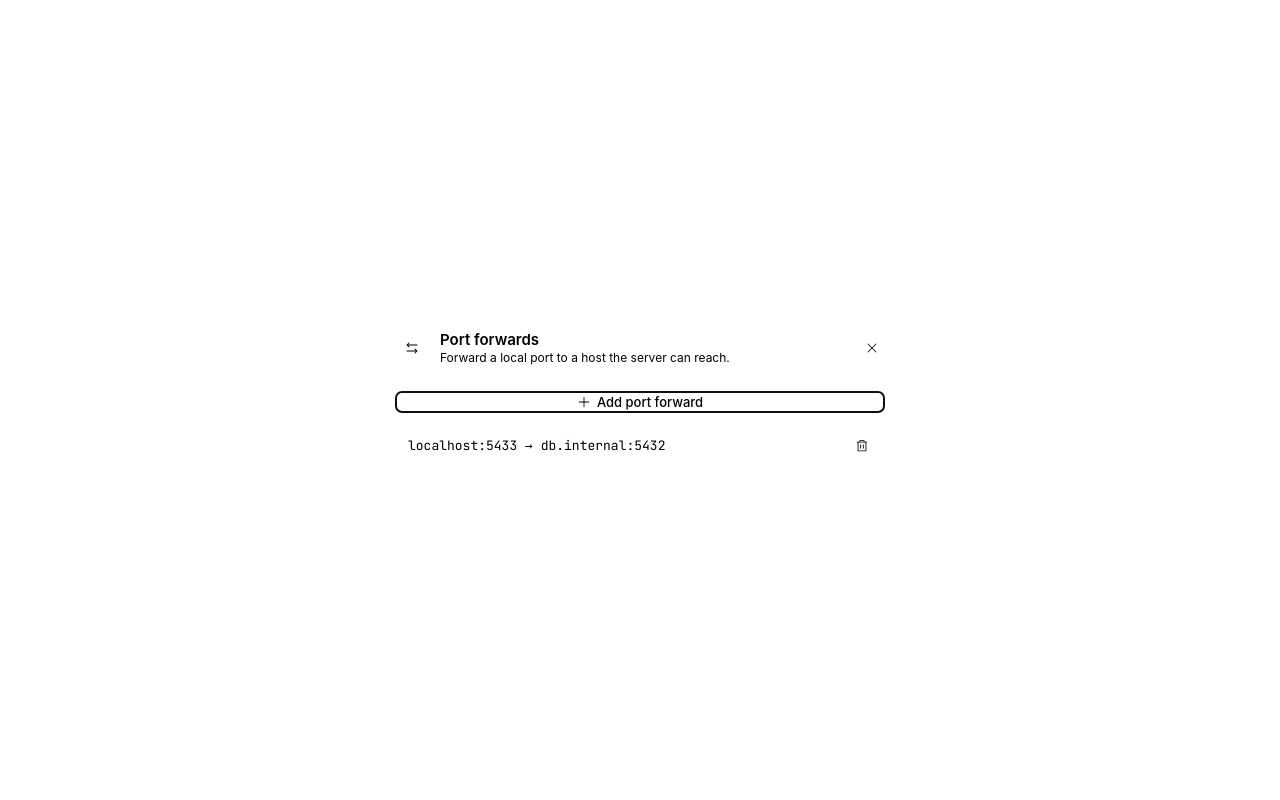
QuickPortForwardDialog › previews local:port → remote:port as you type in the add form
The image size is (1280, 800).
Step 1. Click the button "Add port forward" → (640, 402), box [396,392,884,412]
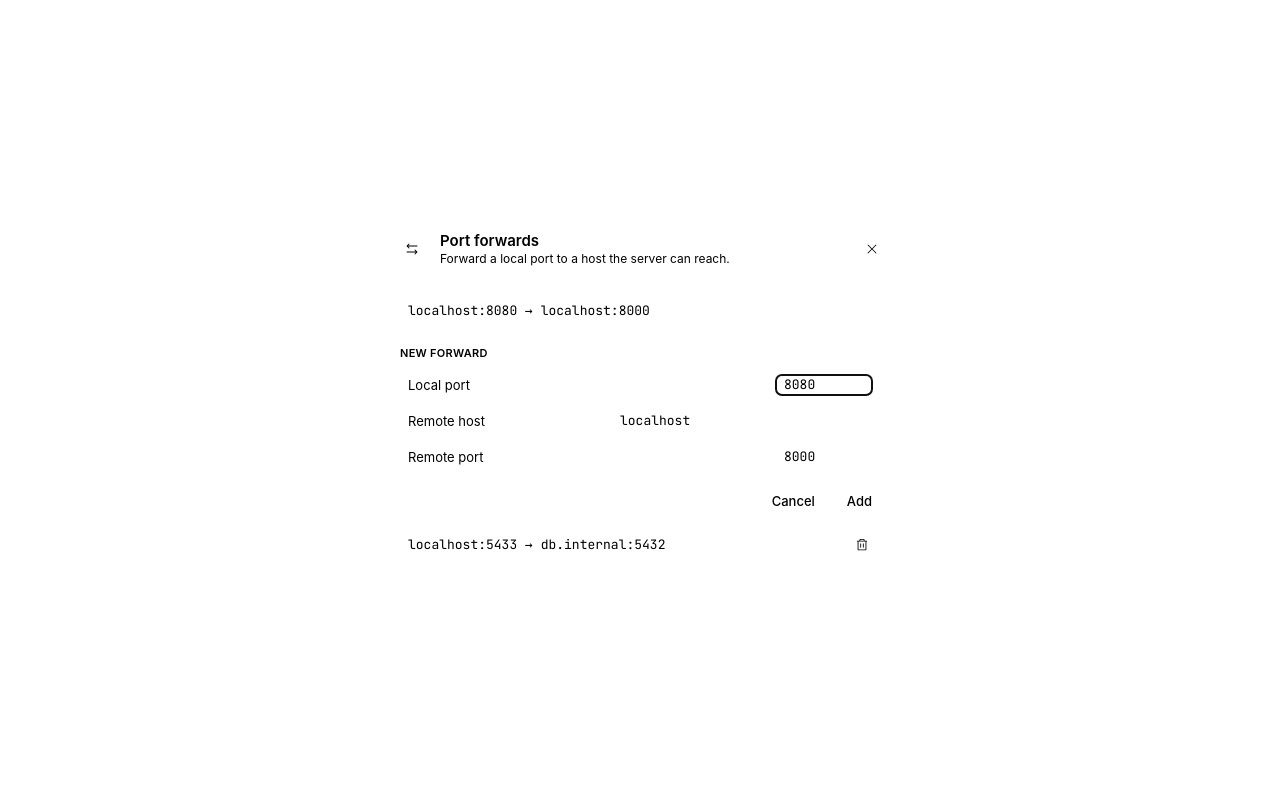
Expected: the element named "Forward preview" reads "localhost:8080 → localhost:8000", [408,302,650,319]
Step 2. Replace the text in the field labelled "Remote host" with "db.internal" → (742, 421), box [612,411,872,431]
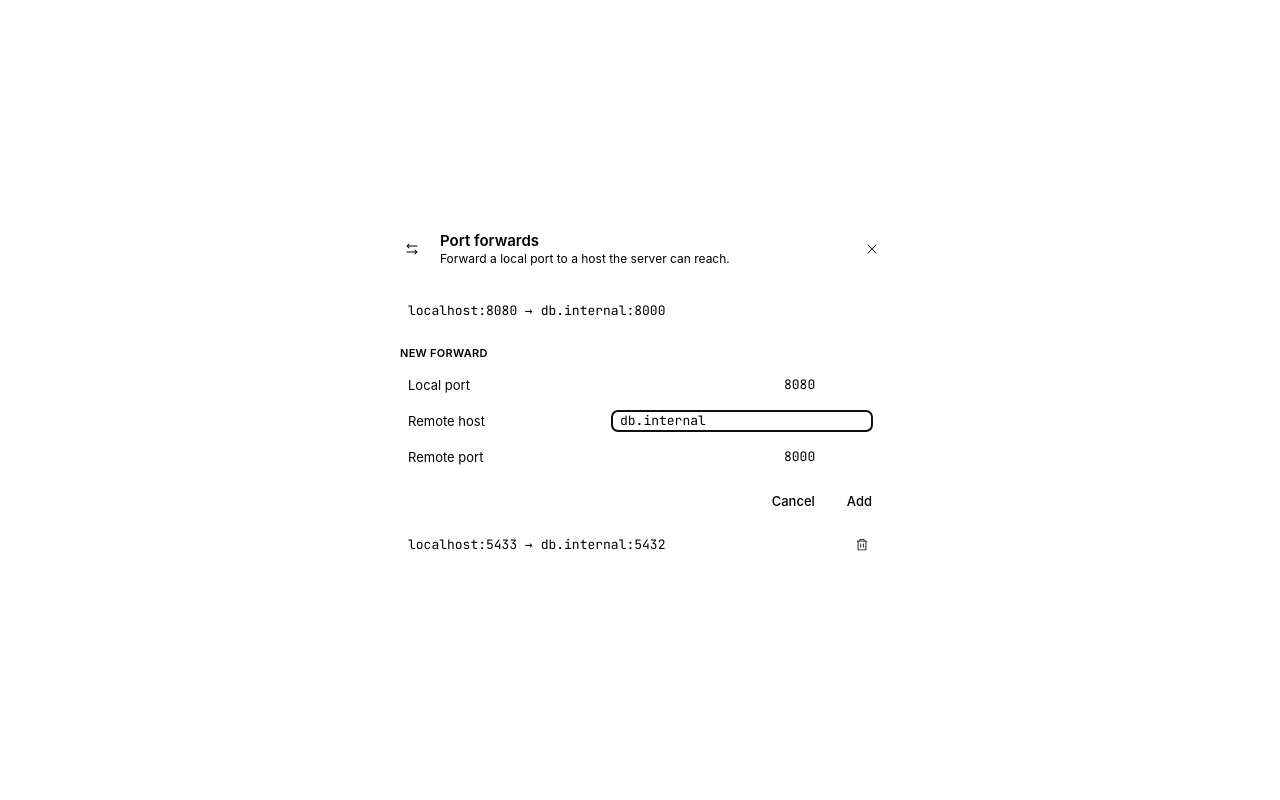
Step 3. Replace the text in the field labelled "Remote port" with "5432" → (824, 457), box [776,447,872,467]
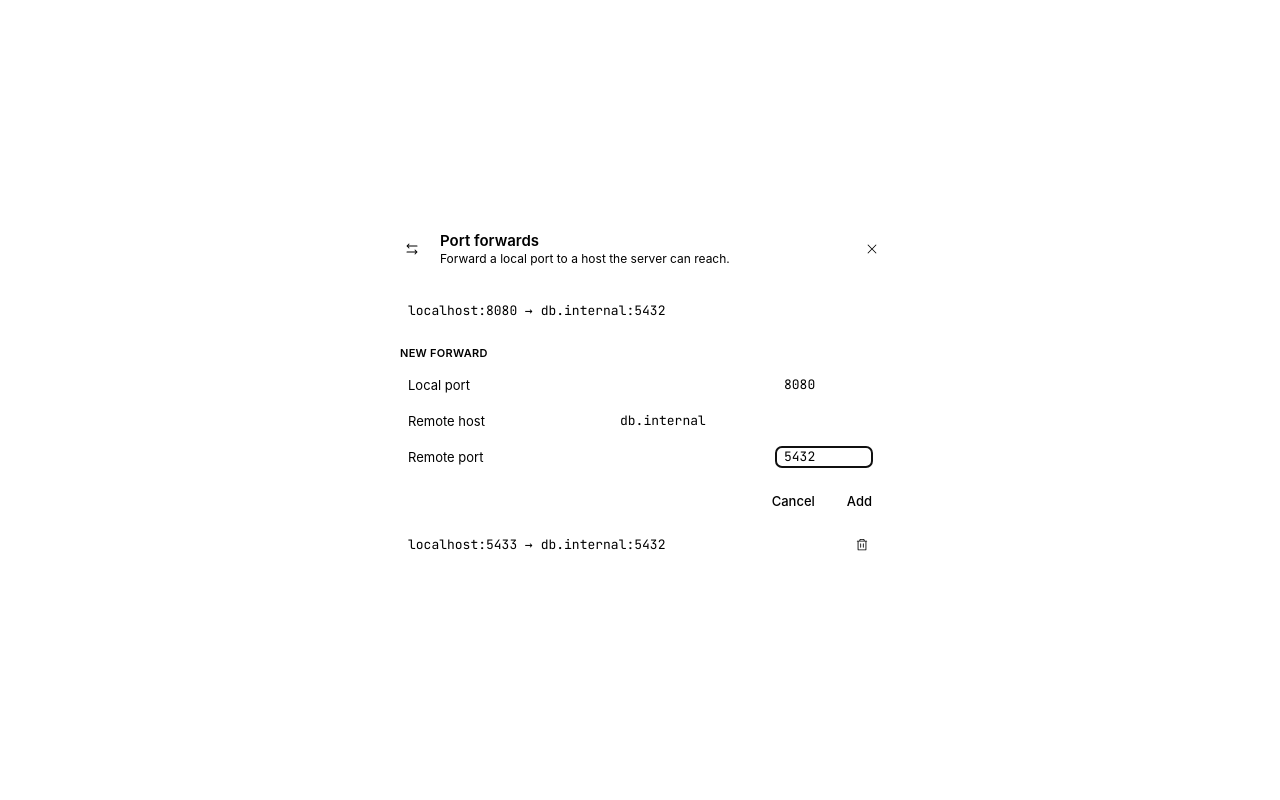
Expected: the element named "Forward preview" reads "localhost:8080 → db.internal:5432", [408,302,665,319]
